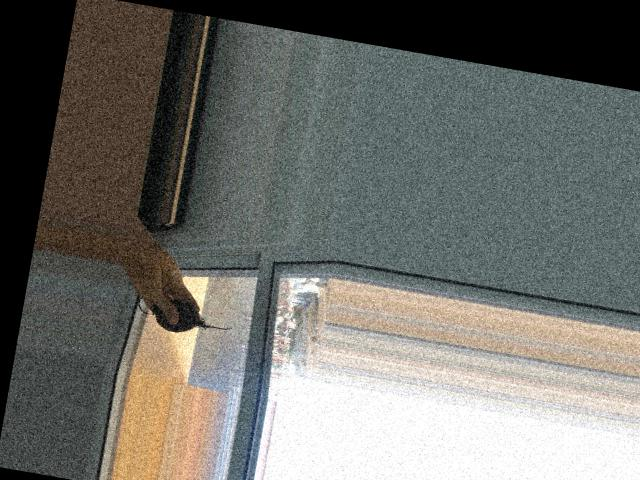beet: (134, 283, 237, 341)
